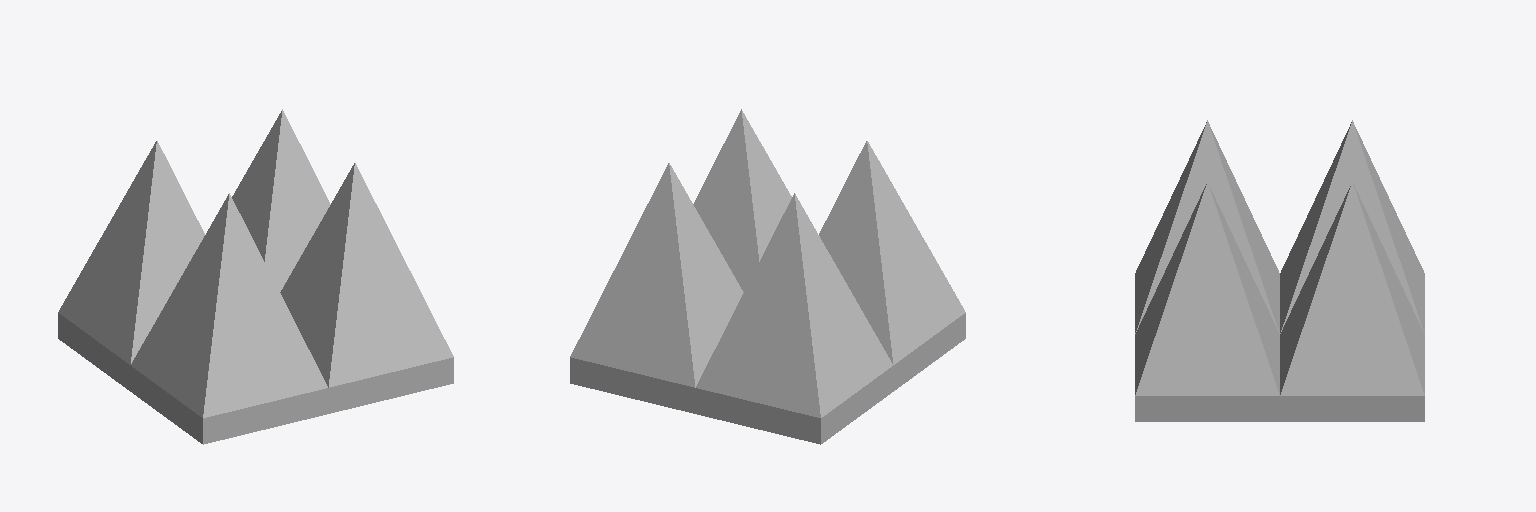
Rendered from blades.obj.
3 renders of one model, left to right at view 1: azimuth 30°, elevation 25°; view 2: azimuth 150°, elevation 25°; view 3: azimuth 270°, elevation 25°, orthographic.
Visible parts, largest first — view 1: Cube; view 2: Cube; view 3: Cube.
Part boxes in pixels (x1,y1,x2,y2): Cube: (58, 109, 453, 444); Cube: (570, 109, 965, 444); Cube: (1135, 120, 1424, 421).
Bounding box in the file's own units: 1 × 0.8 × 1.